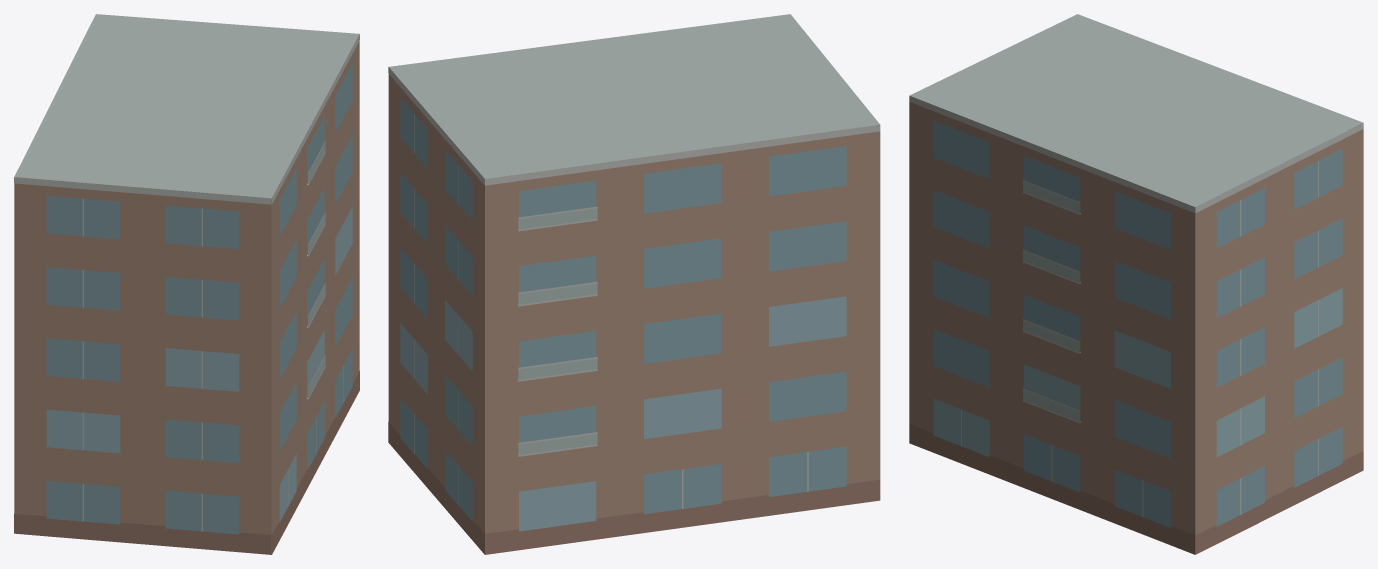
File: survey-upis-32883919.glb
3 renders of one model, left to right at view 1: azimuth 30°, elevation 25°; view 2: azimuth 150°, elevation 25°; view 3: azimuth 270°, elevation 25°, orthographic. The views are drawn at different scales.
Parts seen in each view (by area): view 1: survey-upis-32883919.tmp; view 2: survey-upis-32883919.tmp; view 3: survey-upis-32883919.tmp.
Boxes of the visible parts, x1=… form: survey-upis-32883919.tmp: x1=14, y1=14, x2=359, y2=554; survey-upis-32883919.tmp: x1=388, y1=14, x2=880, y2=554; survey-upis-32883919.tmp: x1=909, y1=14, x2=1363, y2=554.
Size of the model in its own units: 16.46 by 13.8 by 16.35.
